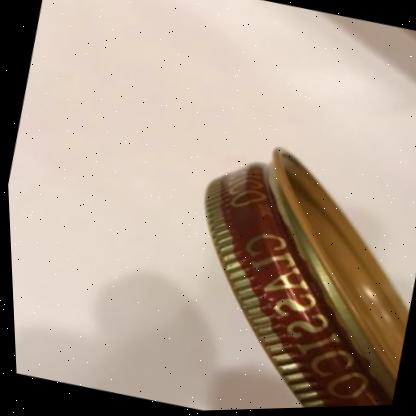Metal: (203, 150, 406, 409)
